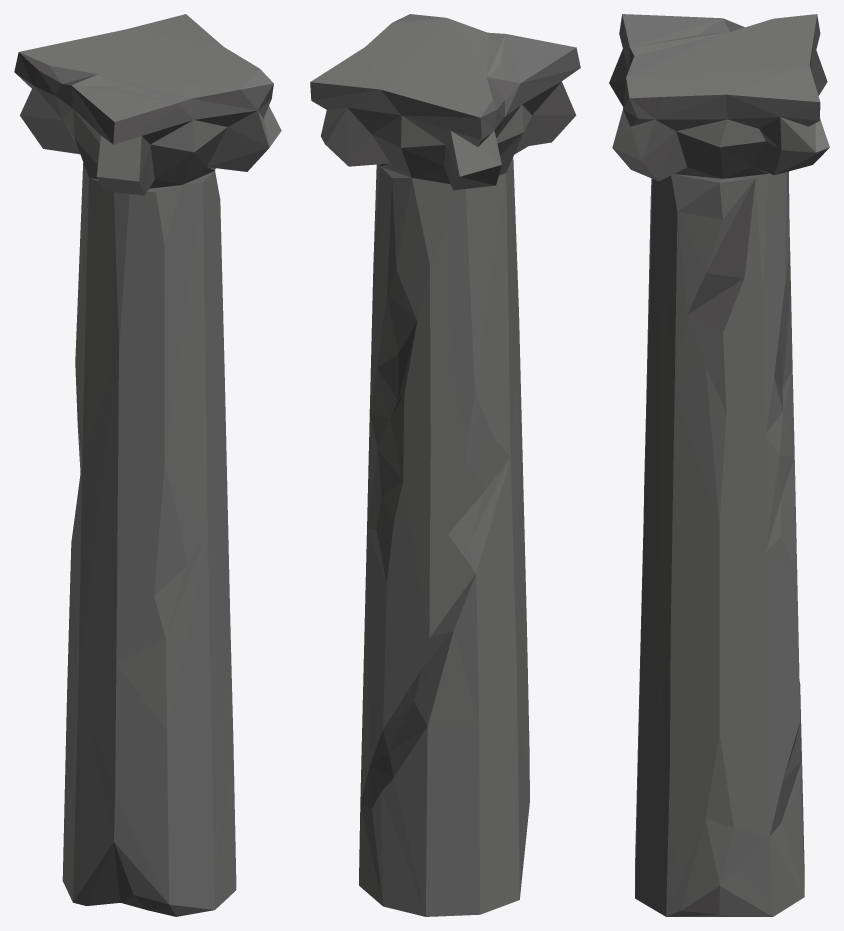
Rendered from SM_Env_Pillar_Round_03.glb.
3 renders of one model, left to right at view 1: azimuth 30°, elevation 25°; view 2: azimuth 150°, elevation 25°; view 3: azimuth 270°, elevation 25°, orthographic.
Parts seen in each view (by area): view 1: SM_Env_Pillar_Round_03; view 2: SM_Env_Pillar_Round_03; view 3: SM_Env_Pillar_Round_03.
Part boxes in pixels (bbox=[...]): SM_Env_Pillar_Round_03: bbox=[14, 14, 281, 916]; SM_Env_Pillar_Round_03: bbox=[310, 14, 580, 916]; SM_Env_Pillar_Round_03: bbox=[609, 14, 829, 916].
Size of the model in its own units: 0.00816 by 0.0342 by 0.00824.
Materials: 1 (1 with a texture image).
